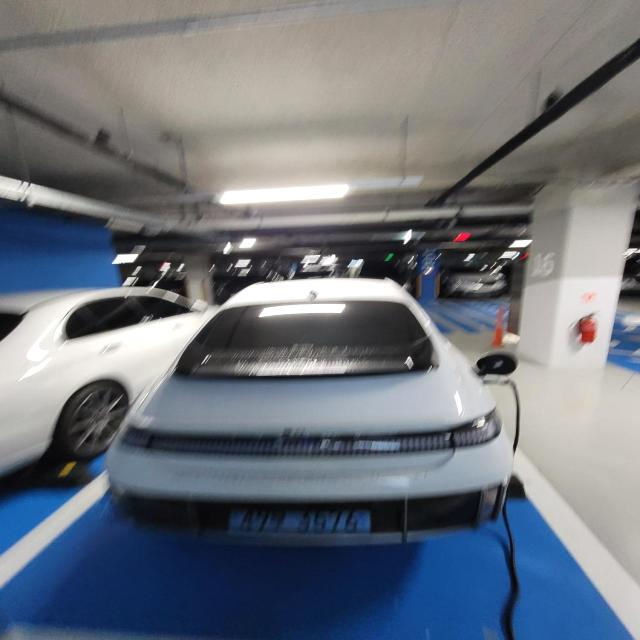EV_plate: (232, 503, 376, 547)
car: (114, 272, 518, 547)
